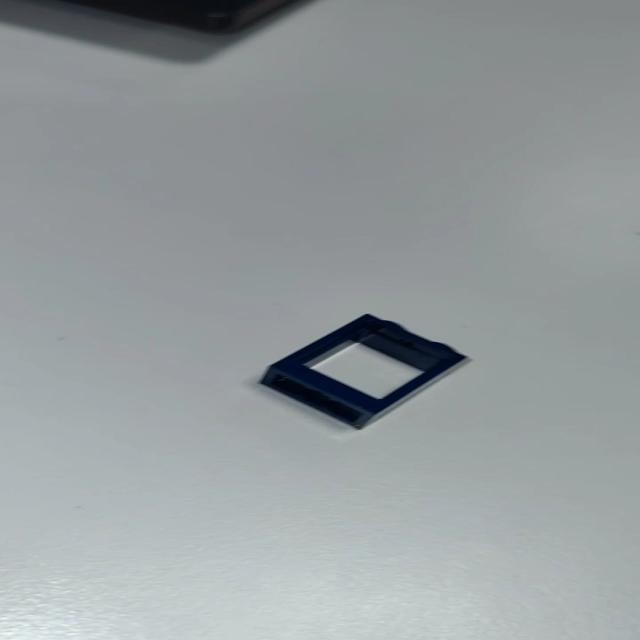W2x1x2: (256, 312, 474, 430)
